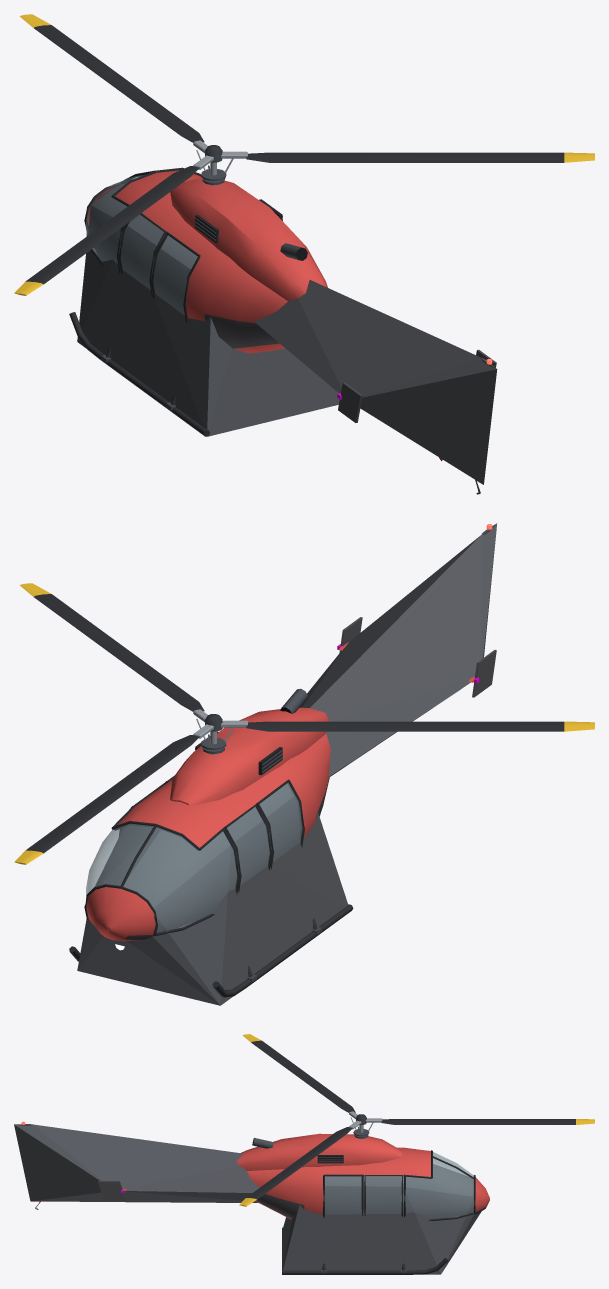
The model's file is heli_civil.glb.
3 renders of one model, top to bottom at view 1: azimuth 30°, elevation 25°; view 2: azimuth 150°, elevation 25°; view 3: azimuth 270°, elevation 25°, orthographic. The views are drawn at different scales.
Parts seen in each view (by area): view 1: heli_civil__col_body, heli_civil__body, heli_civil__col_tail, heli_civil__rotor_main, heli_civil__door_fl; view 2: heli_civil__body, heli_civil__col_body, heli_civil__col_tail, heli_civil__rotor_main, heli_civil__door_fl; view 3: heli_civil__col_body, heli_civil__body, heli_civil__col_tail, heli_civil__rotor_main, heli_civil__door_fr.
Boxes of the visible parts, bbox=[...] form: heli_civil__col_body: bbox=[77, 183, 339, 436]; heli_civil__body: bbox=[69, 162, 496, 494]; heli_civil__col_tail: bbox=[255, 280, 497, 484]; heli_civil__rotor_main: bbox=[14, 14, 594, 295]; heli_civil__door_fl: bbox=[119, 213, 166, 296]; heli_civil__body: bbox=[69, 523, 496, 997]; heli_civil__col_body: bbox=[77, 784, 348, 1005]; heli_civil__col_tail: bbox=[300, 523, 497, 776]; heli_civil__rotor_main: bbox=[14, 583, 594, 864]; heli_civil__door_fl: bbox=[224, 804, 271, 892]; heli_civil__col_body: bbox=[282, 1164, 481, 1274]; heli_civil__body: bbox=[14, 1121, 489, 1274]; heli_civil__col_tail: bbox=[14, 1124, 259, 1202]; heli_civil__rotor_main: bbox=[239, 1034, 594, 1206]; heli_civil__door_fr: bbox=[364, 1175, 403, 1217].
Size of what is drawn, in the model's own units: 8.23 by 3.08 by 11.69.
7 materials, 2 textured.
